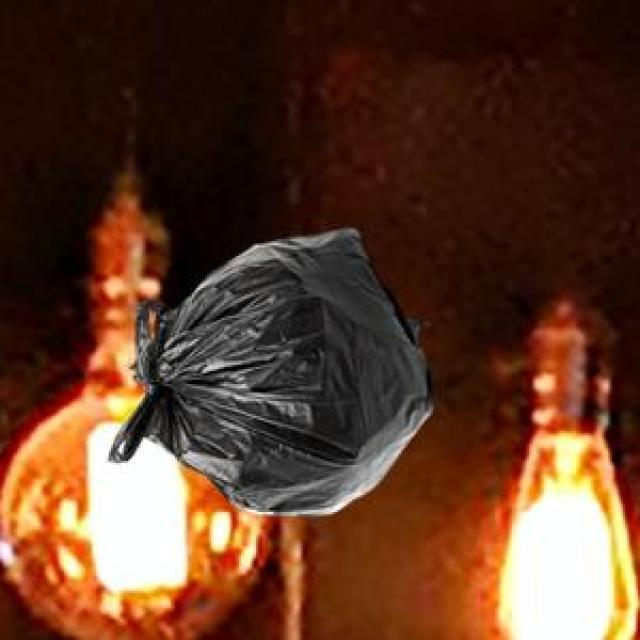garbage_bag: (105, 220, 438, 521)
